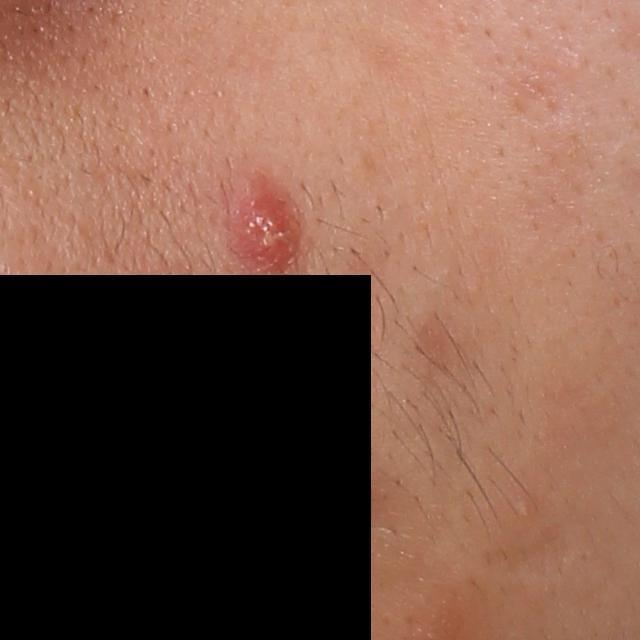papule: (246, 189, 290, 282)
